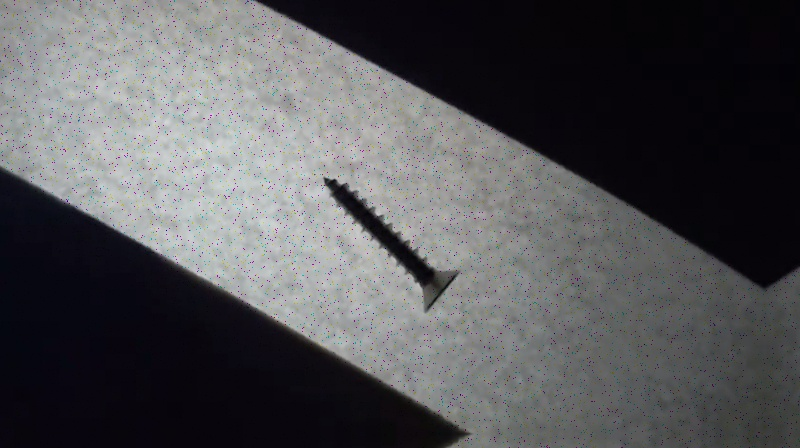S001: (317, 172, 465, 316)
